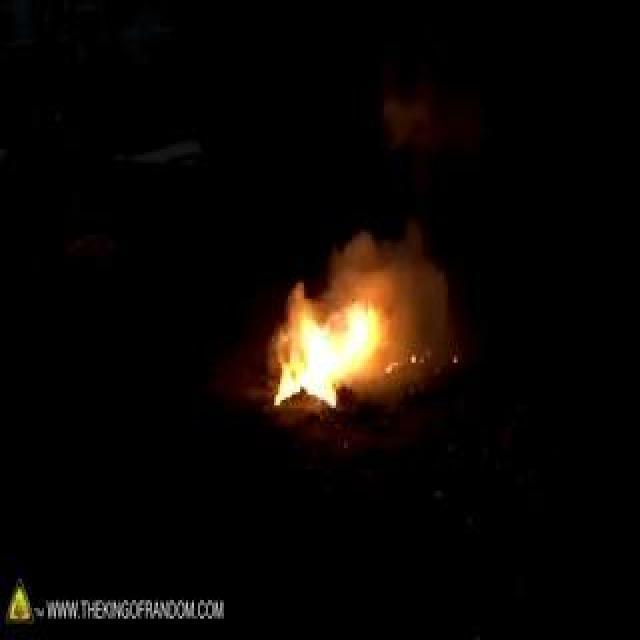Fire: (250, 258, 368, 446)
Smoke: (380, 247, 458, 375)
